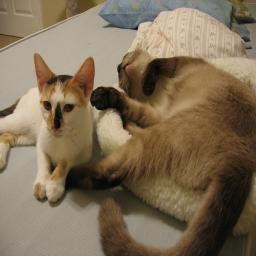catnose: (50, 122, 62, 134), (117, 63, 122, 75)
